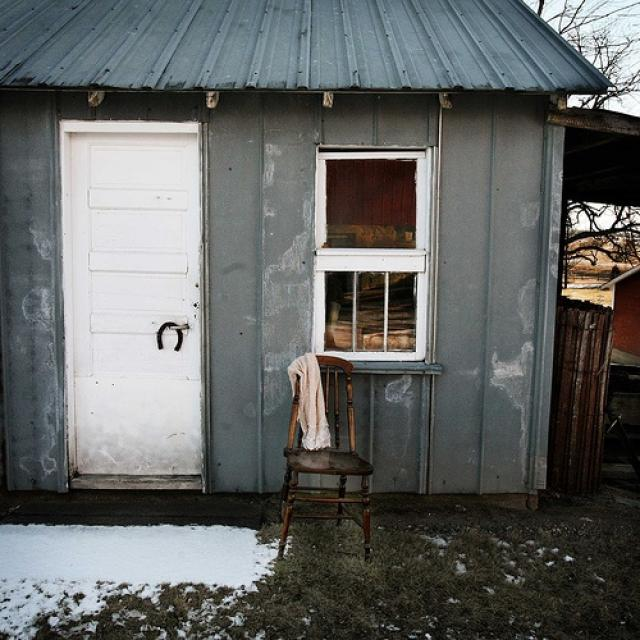chair: (271, 349, 384, 562)
